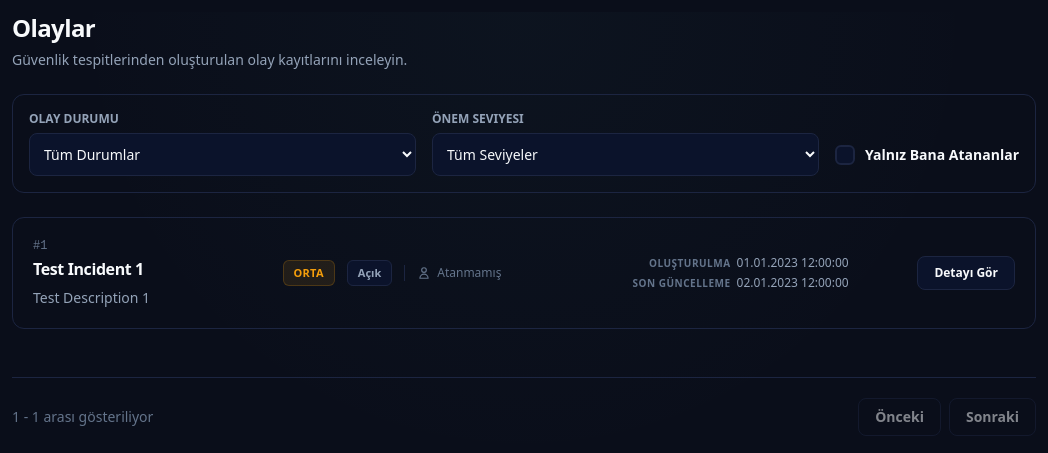
Test: IncidentList › Durumlar › 39. Filtre varken filtreli empty state görünür
Check: the heading "Test Incident 1" is shown, box [33,258,144,280]
Select "Açık" in the dropdown labelled "Olay Durumu" at x=222, y=154, box [29,133,416,176]
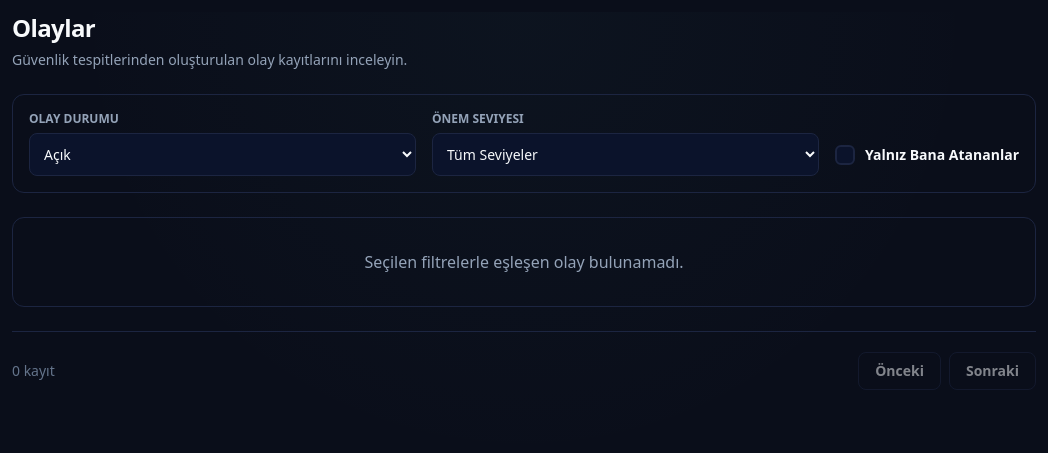
Check: the text "Seçilen filtrelerle eşleşen olay bulunamadı." is shown, box [12,217,1036,307]
